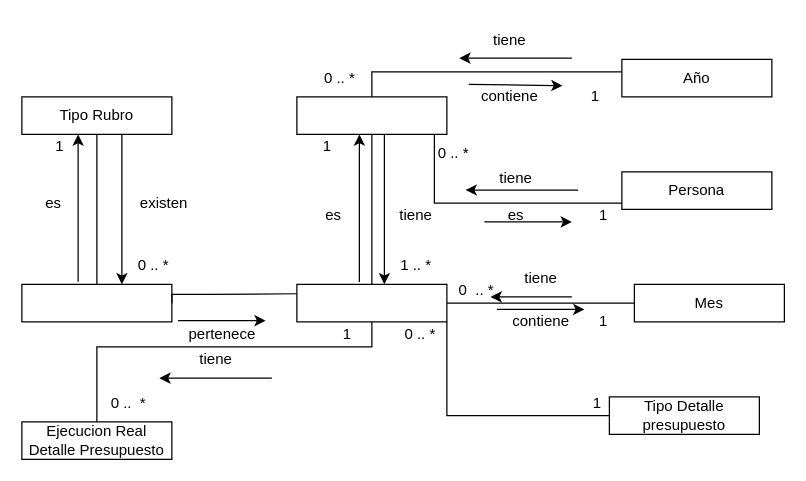
The diagram is 806 pixels wide and 481 high, and some of its shapes have lost their labels. Here are the shapes that lost their labels. From the top down, the centre of each, then its label:
At point (371, 115): "Presupuesto".
At point (96, 302): "Rubro".
At point (371, 302): "Detalle presupuesto".
